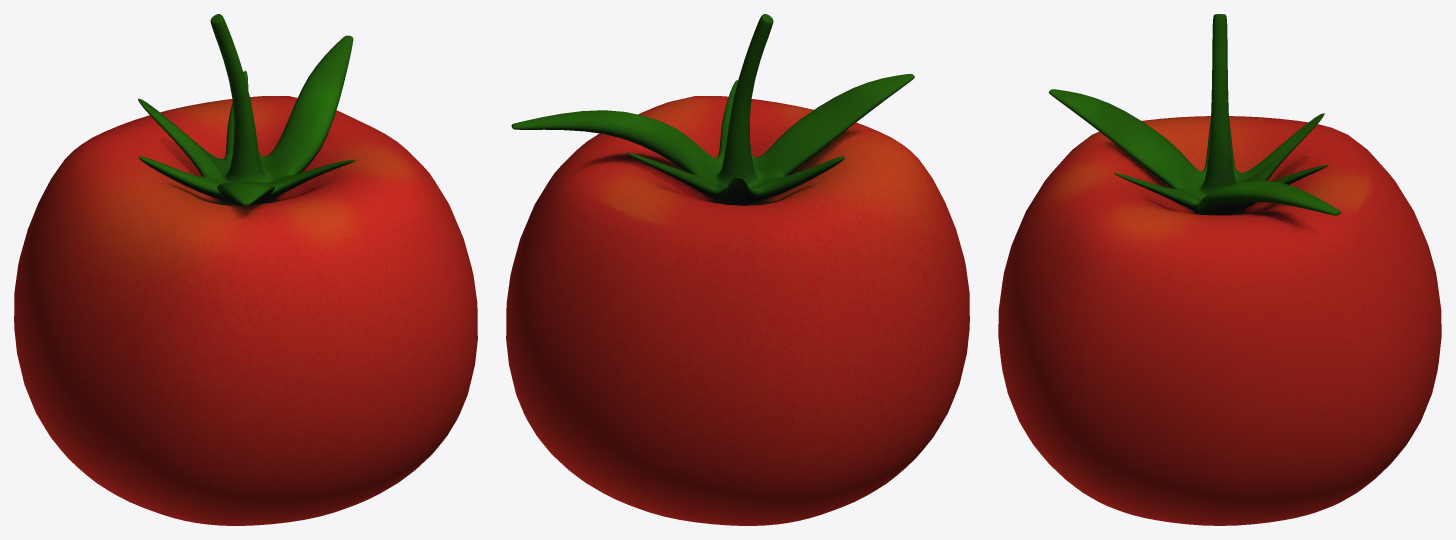
File: tomato.obj
3 views of the same model, side by side, from view 1: azimuth 30°, elevation 25°; view 2: azimuth 150°, elevation 25°; view 3: azimuth 270°, elevation 25° (orthographic). The views are drawn at different scales.
Visible parts, largest first — view 1: tomato:Mesh; view 2: tomato:Mesh; view 3: tomato:Mesh.
Boxes of the visible parts, x1,y1,x2,y2 form: tomato:Mesh: [14, 14, 477, 525]; tomato:Mesh: [506, 14, 969, 525]; tomato:Mesh: [998, 14, 1441, 525].
Bounding box in the file's own units: 1.4 × 1.6 × 1.4.
2 materials, 2 textured.
